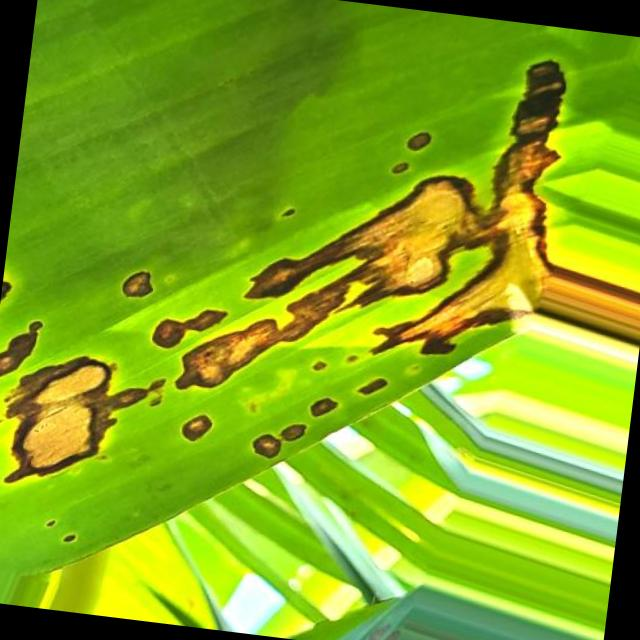Banana_Black_Sigatoka: (6, 0, 640, 603)
